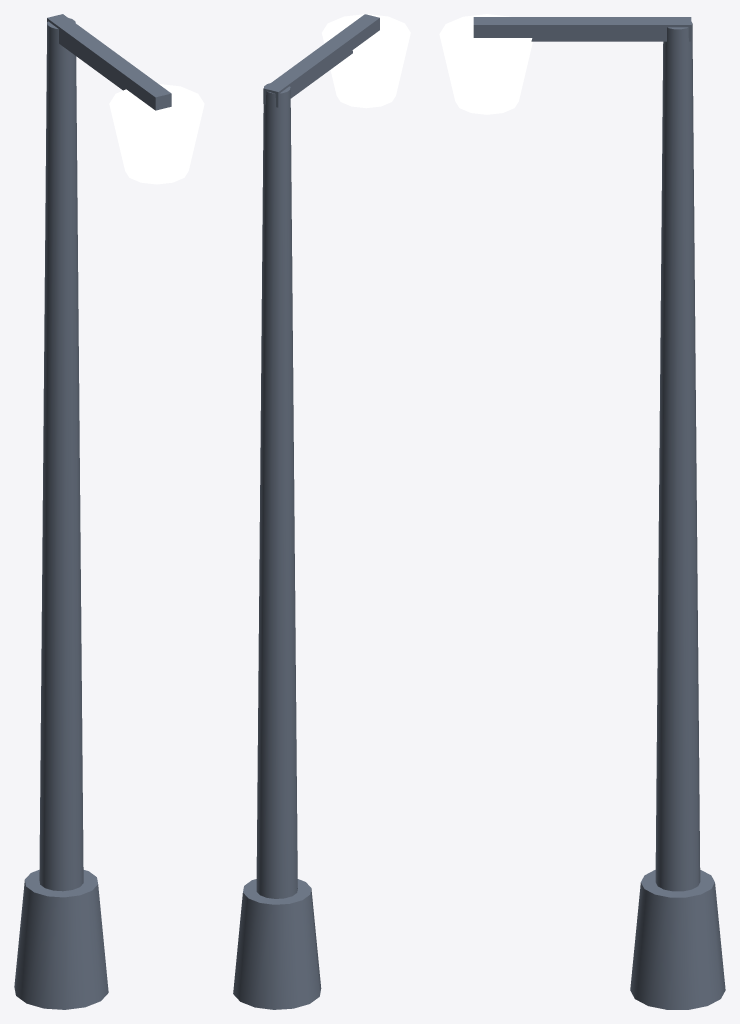
File: ch5_prop_street_lamp.glb
3 renders of one model, left to right at view 1: azimuth 30°, elevation 25°; view 2: azimuth 150°, elevation 25°; view 3: azimuth 270°, elevation 25°, orthographic. The views are drawn at different scales.
Visible parts, largest first — view 1: ch5_prop_street_lamp; view 2: ch5_prop_street_lamp; view 3: ch5_prop_street_lamp.
Part boxes in pixels (x1=…): ch5_prop_street_lamp: x1=14, y1=14, x2=204, y2=1009; ch5_prop_street_lamp: x1=233, y1=14, x2=410, y2=1009; ch5_prop_street_lamp: x1=439, y1=14, x2=725, y2=1009.
Bounding box in the file's own units: 0.36 × 4.03 × 1.08.
